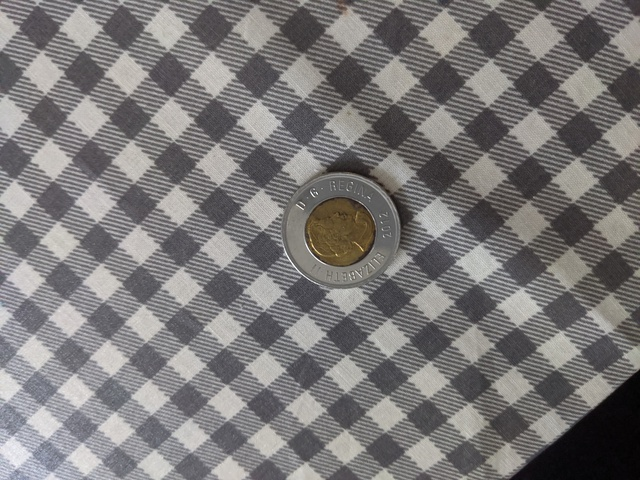twonie: (278, 171, 405, 291)
